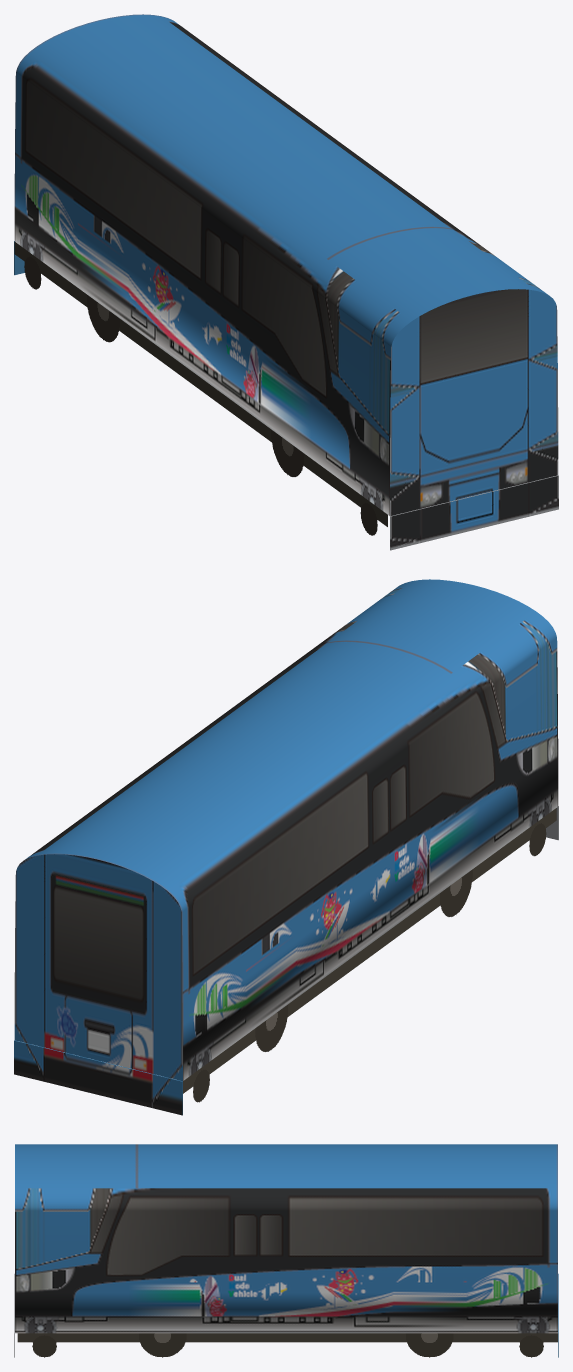
The model's file is car1.glb.
3 views of the same model, one above another, from view 1: azimuth 30°, elevation 25°; view 2: azimuth 150°, elevation 25°; view 3: azimuth 270°, elevation 25° (orthographic). The views are drawn at different scales.
Visible parts, largest first — view 1: asakaigan-dmv93-car1; view 2: asakaigan-dmv93-car1; view 3: asakaigan-dmv93-car1.
Part boxes in pixels (x1=…): asakaigan-dmv93-car1: x1=14, y1=14, x2=558, y2=550; asakaigan-dmv93-car1: x1=14, y1=579, x2=558, y2=1115; asakaigan-dmv93-car1: x1=14, y1=1144, x2=558, y2=1357.
Size of the model in its own units: 2.09 by 2.78 by 8.09.
9 materials, 8 textured.
